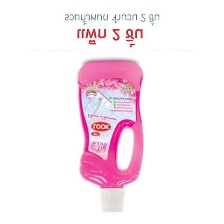cleaning_solution: (77, 56, 146, 217)
